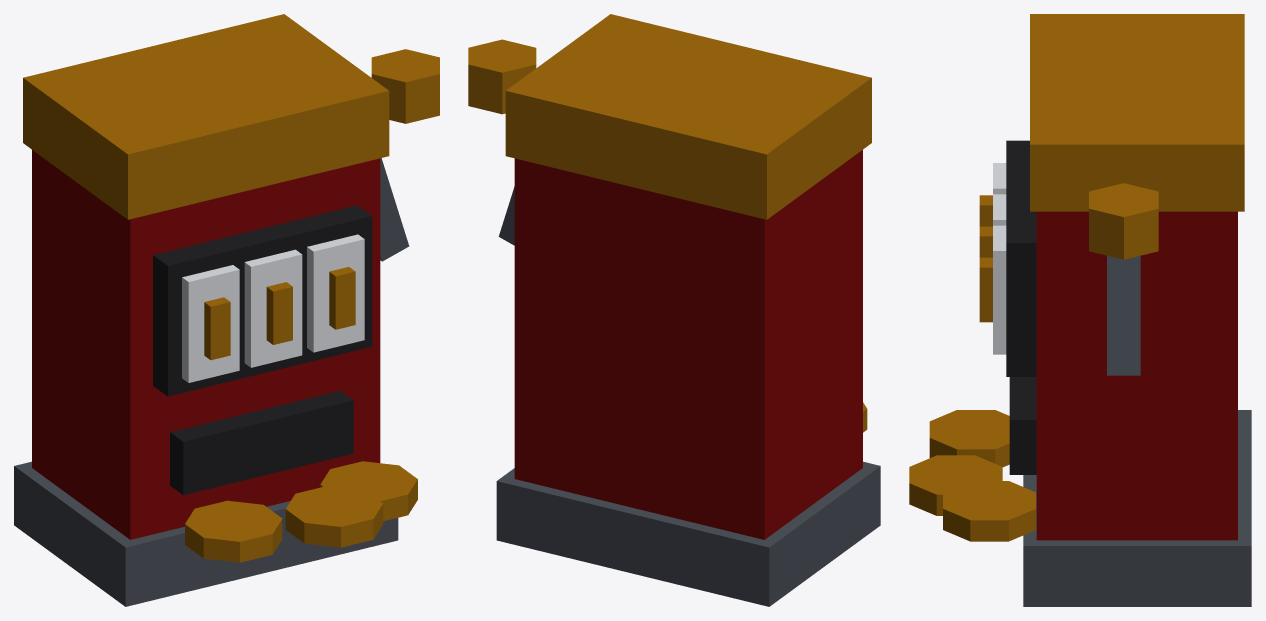
Rendered from Jackpot_low.fbx.
3 renders of one model, left to right at view 1: azimuth 30°, elevation 25°; view 2: azimuth 150°, elevation 25°; view 3: azimuth 270°, elevation 25°, orthographic. The views are drawn at different scales.
Parts seen in each view (by area): view 1: Jackpot_low; view 2: Jackpot_low; view 3: Jackpot_low.
Part boxes in pixels (x1,y1,x2,y2): Jackpot_low: (14, 14, 439, 606); Jackpot_low: (468, 14, 880, 606); Jackpot_low: (909, 14, 1251, 606).
Size of the model in its own units: 64 by 75.5 by 50.93.
